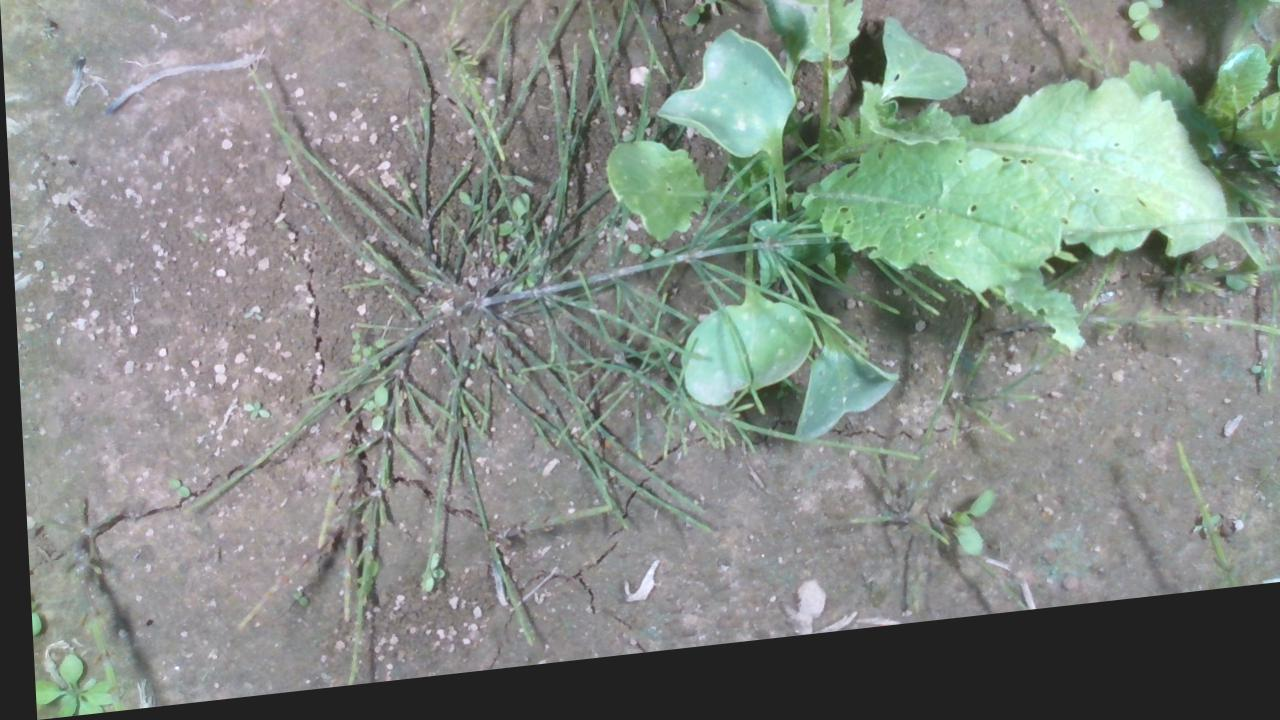weed: (235, 404, 266, 430), (159, 478, 184, 502)
